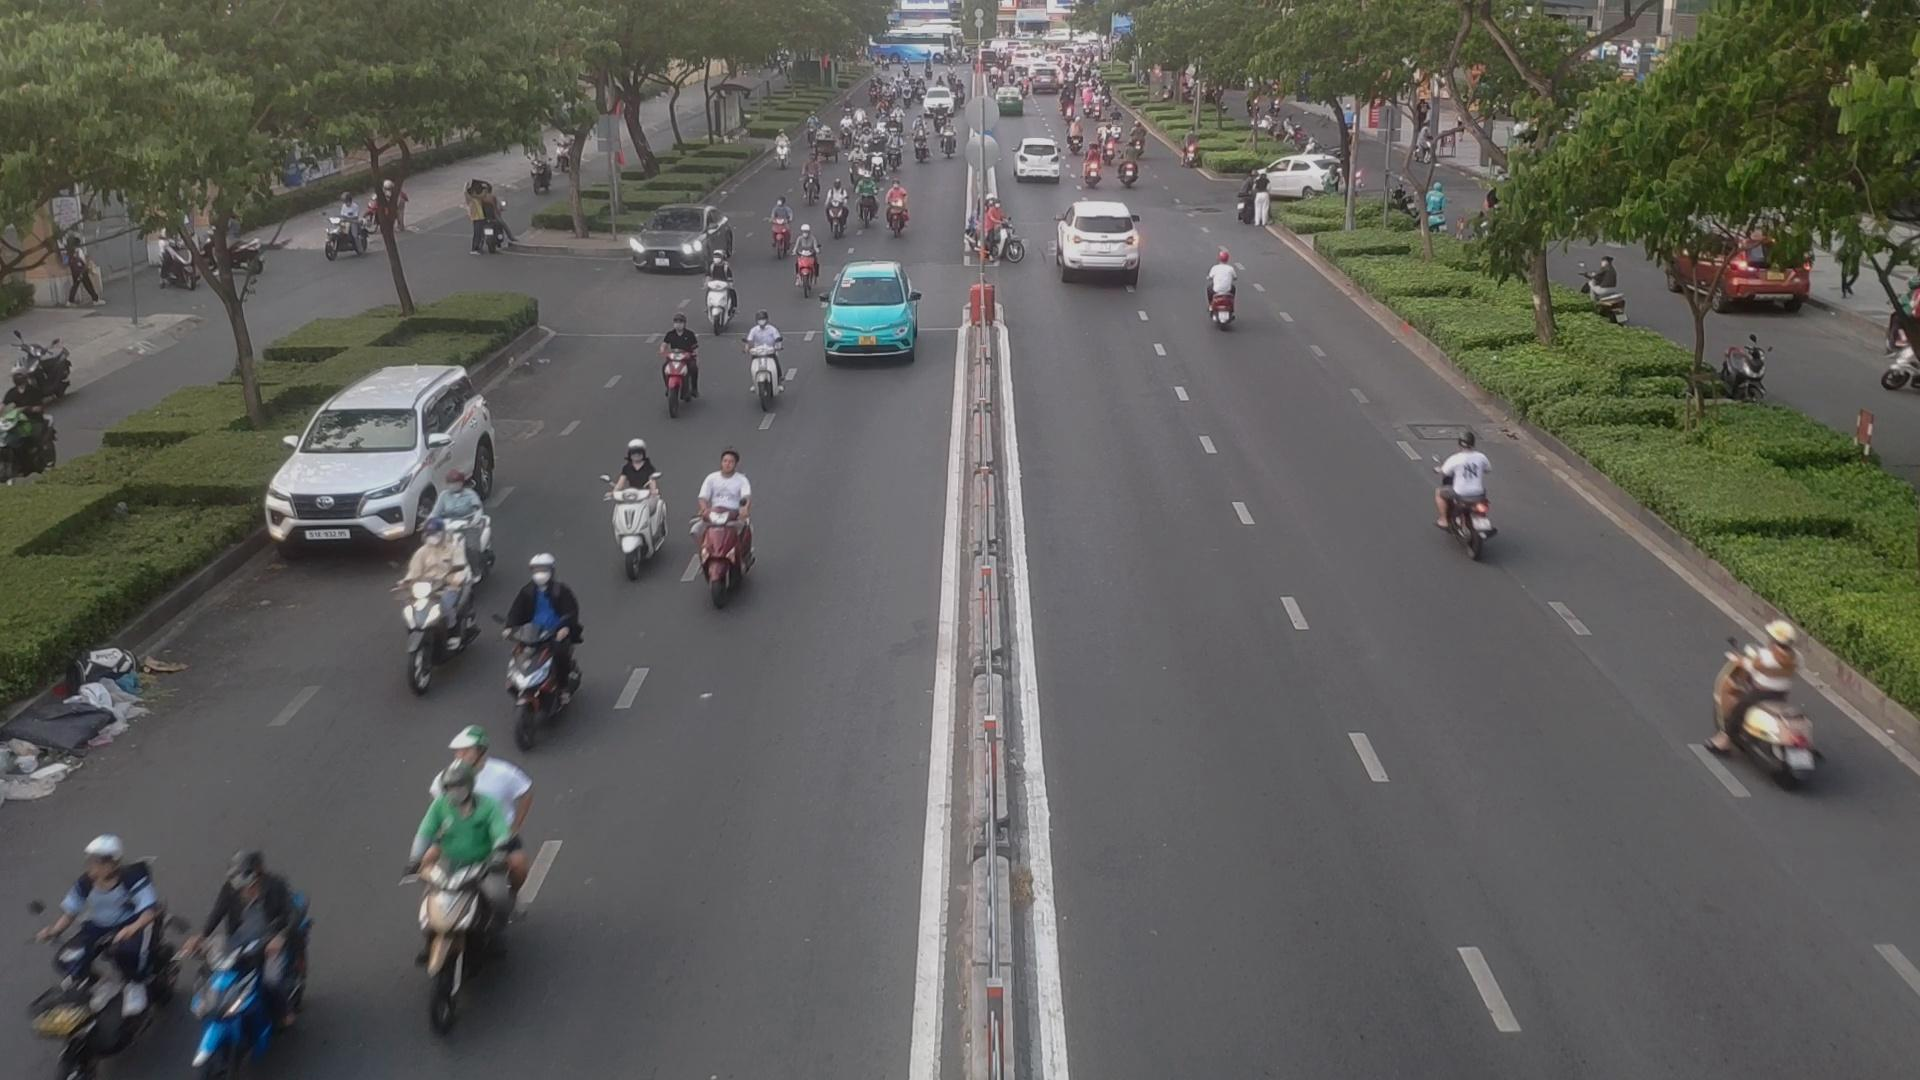car: (264, 363, 497, 559), (823, 262, 926, 367), (1059, 198, 1150, 284), (626, 204, 733, 277), (1013, 138, 1063, 181)
motorbike: (382, 753, 531, 1011), (29, 822, 170, 1072), (191, 843, 320, 1054), (1702, 607, 1826, 796), (505, 559, 583, 732), (398, 508, 469, 678), (695, 442, 775, 592), (1425, 433, 1510, 550), (422, 465, 498, 566), (611, 433, 662, 560), (746, 306, 794, 404), (661, 324, 704, 410), (1205, 247, 1241, 326), (976, 200, 1017, 260), (765, 185, 796, 255), (704, 251, 735, 323), (794, 222, 816, 291), (825, 177, 851, 233), (884, 175, 907, 233), (771, 116, 795, 167), (855, 170, 878, 222), (1117, 142, 1142, 187), (806, 153, 824, 204), (884, 131, 905, 174), (1081, 144, 1098, 189), (847, 142, 864, 186), (872, 133, 886, 175)
